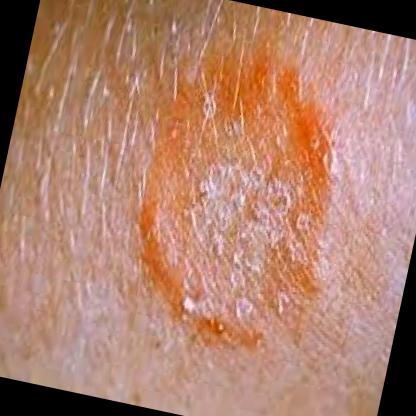Ringworm: (105, 21, 373, 379)
